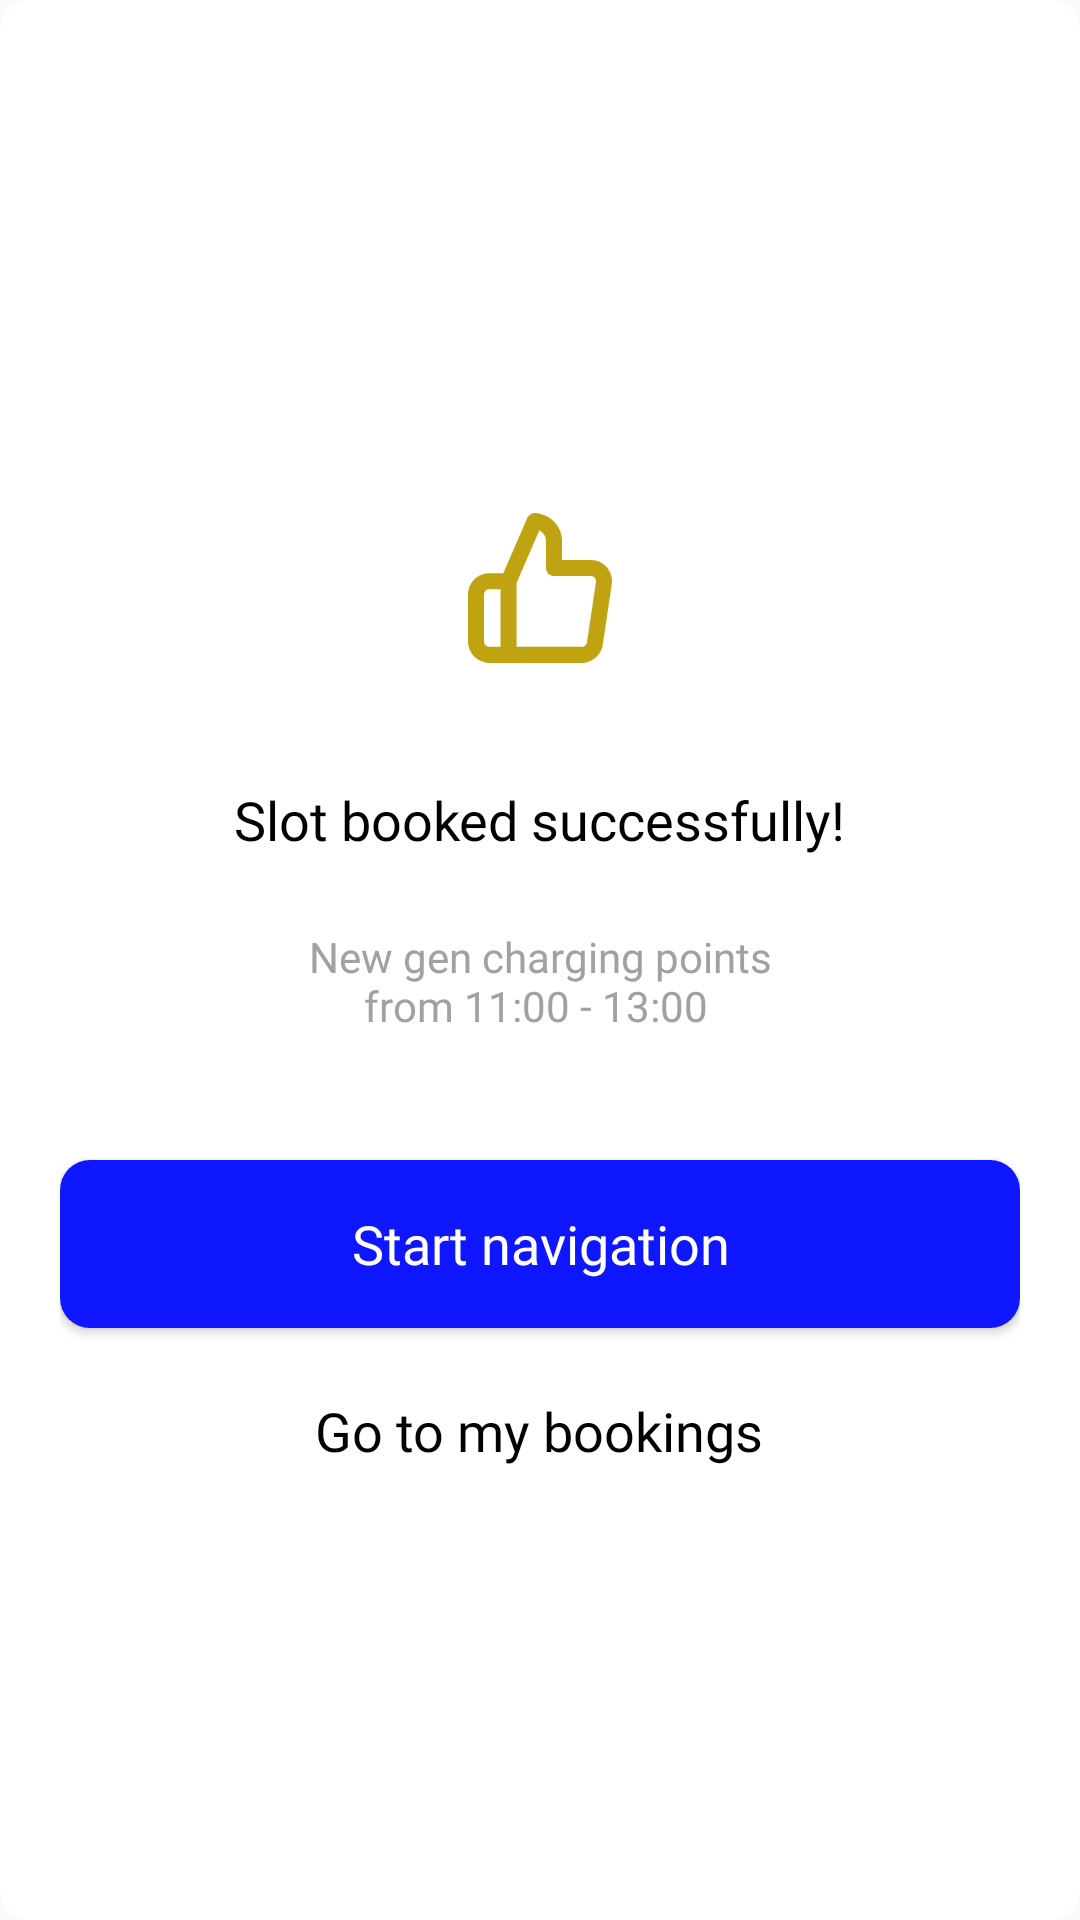

Where icons sit on this 1080 × 1920 app screen, as (x1, y1, x2, y2):
thumb: (468, 513, 612, 663)
